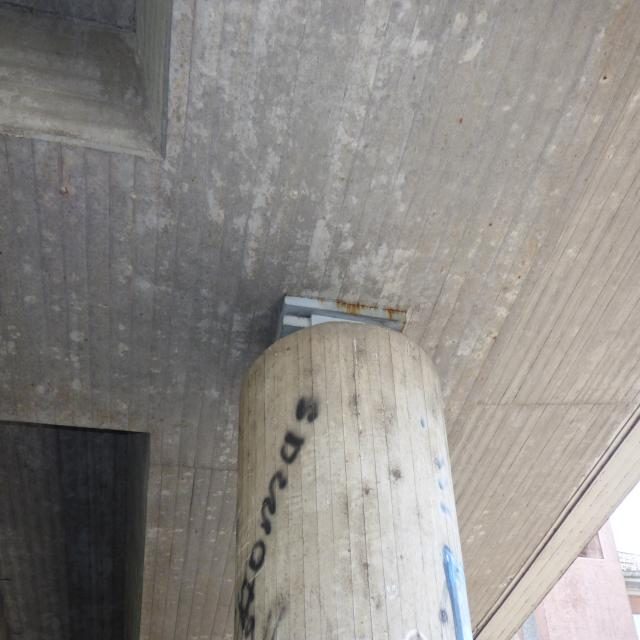corrosion: (272, 289, 411, 338)
